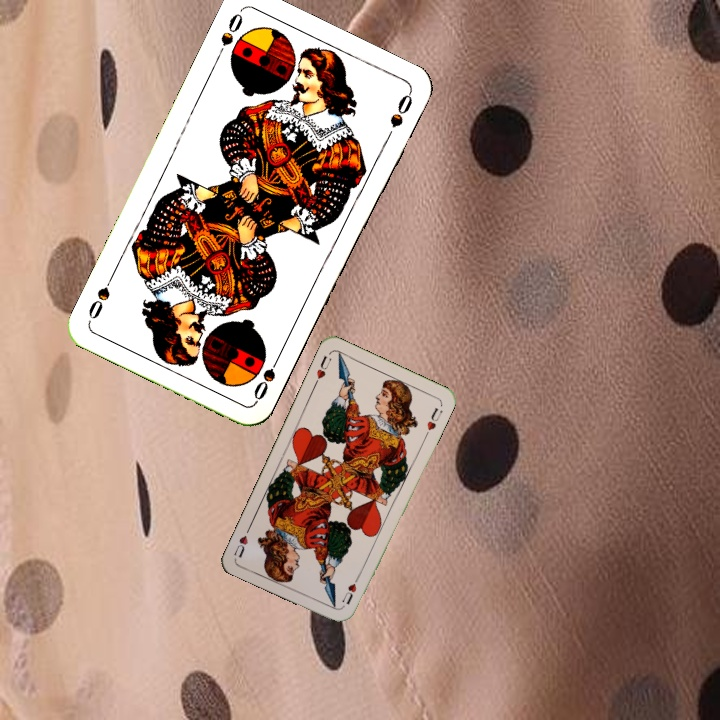HU: (338, 571, 363, 607), (310, 351, 334, 388)
SO: (249, 349, 284, 404), (212, 7, 246, 62)
